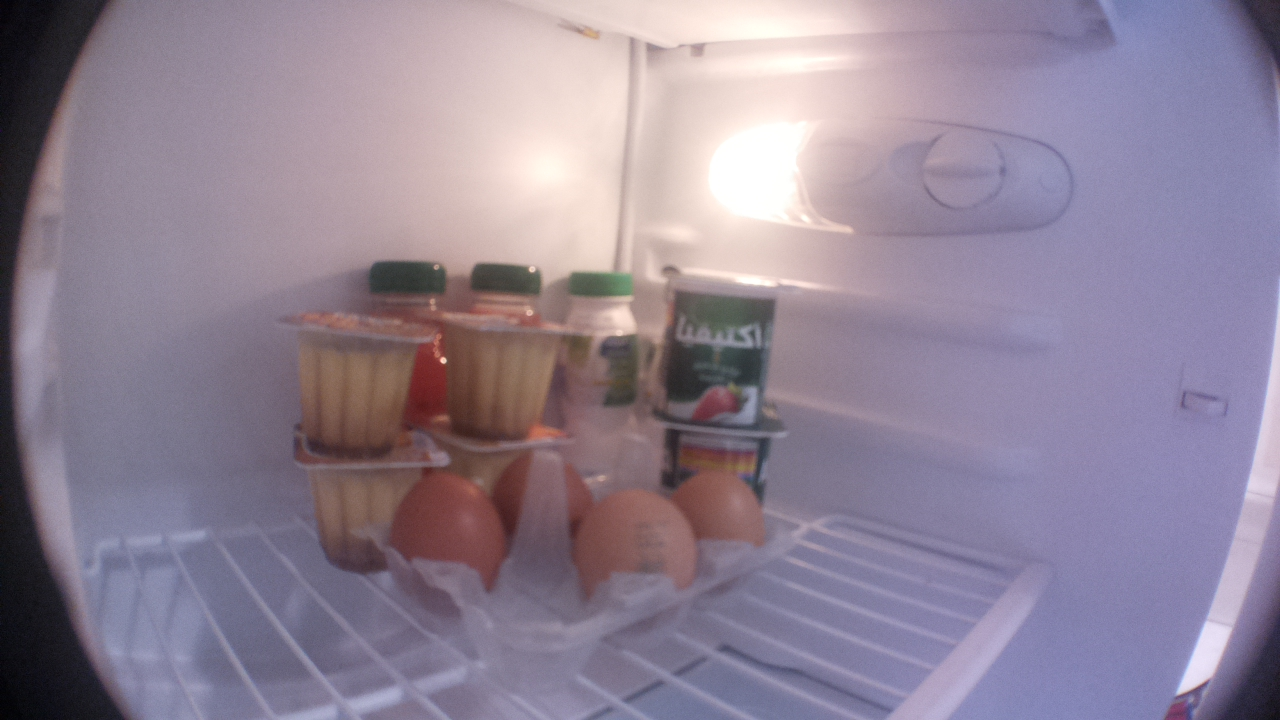caramel: (263, 302, 446, 459), (275, 421, 445, 578), (415, 313, 584, 448), (428, 410, 574, 484)
egg: (561, 481, 698, 607), (389, 467, 498, 616), (667, 466, 771, 571), (492, 437, 594, 541)
juice: (369, 256, 450, 420), (465, 260, 548, 339)
laban: (550, 262, 646, 468)
yoghurt: (644, 264, 810, 426), (637, 390, 796, 506)
